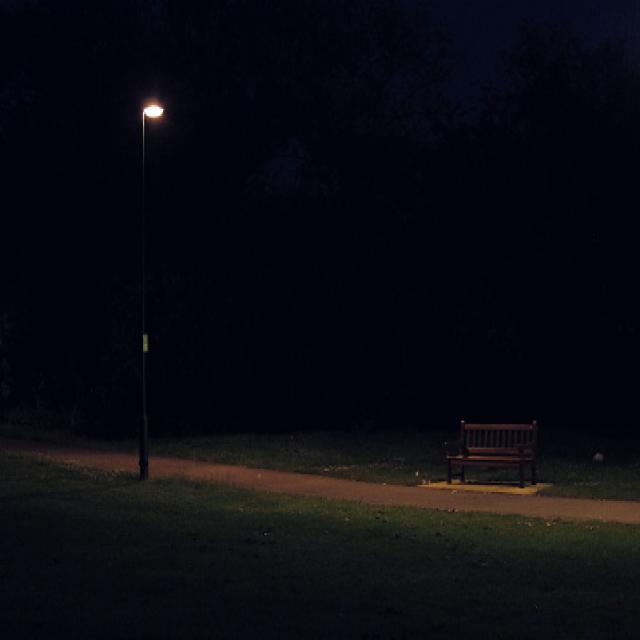chair: (432, 410, 548, 514)
